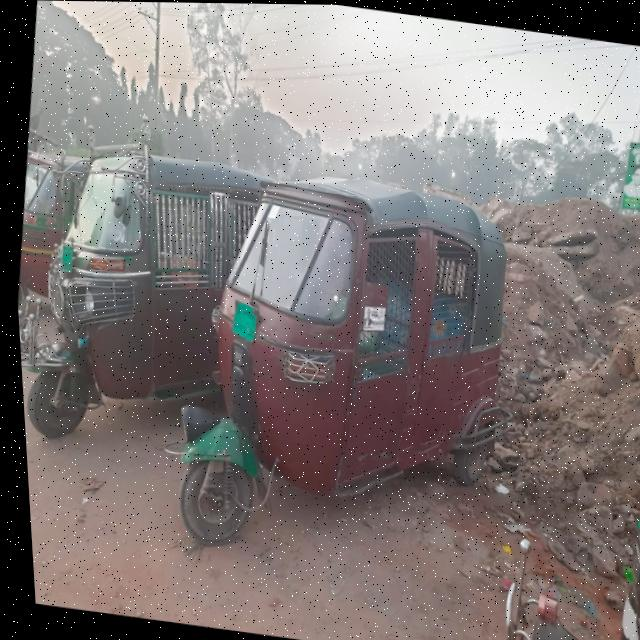cng: (166, 154, 525, 592), (24, 116, 279, 437)
